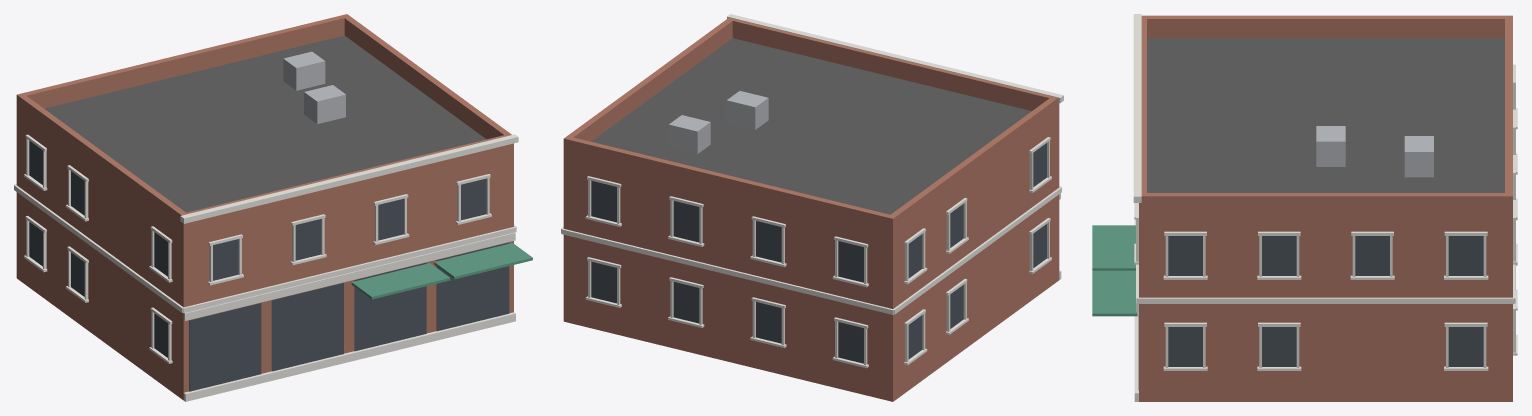
Rendered from SM_Storefront_2F_A.fbx.
3 views of the same model, side by side, from view 1: azimuth 30°, elevation 25°; view 2: azimuth 150°, elevation 25°; view 3: azimuth 270°, elevation 25° (orthographic). The views are drawn at different scales.
Visible parts, largest first — view 1: SM_Storefront_2F_A_LOD0; view 2: SM_Storefront_2F_A_LOD0; view 3: SM_Storefront_2F_A_LOD0.
Part boxes in pixels (bbox=[...]): SM_Storefront_2F_A_LOD0: bbox=[14, 14, 532, 401]; SM_Storefront_2F_A_LOD0: bbox=[561, 14, 1063, 401]; SM_Storefront_2F_A_LOD0: bbox=[1092, 14, 1517, 401].
Size of what is drawn, in the model's own units: 16.36 by 8.75 by 15.93.
